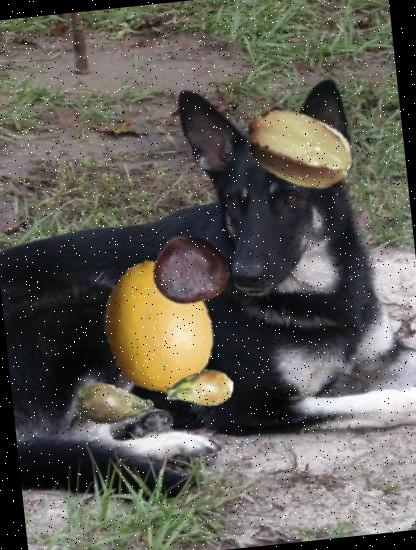Cactus: (71, 363, 159, 450), (162, 352, 238, 427)
Carambula: (238, 90, 358, 209)
Chestnut: (148, 227, 232, 311)
Lemon: (82, 255, 234, 406)
